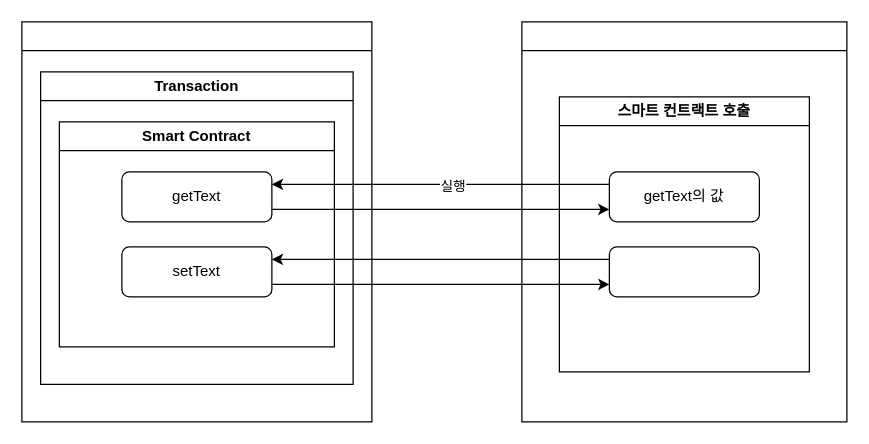
The diagram is 869 pixels wide and 444 high, and some of its shapes have lost their labels. Each missing label, with the box of its shape:
Block: (21, 21, 372, 422)
결과에 대한 Transaction Hash: (608, 246, 759, 297)
어떤 유저(지갑계정): (521, 21, 847, 422)
